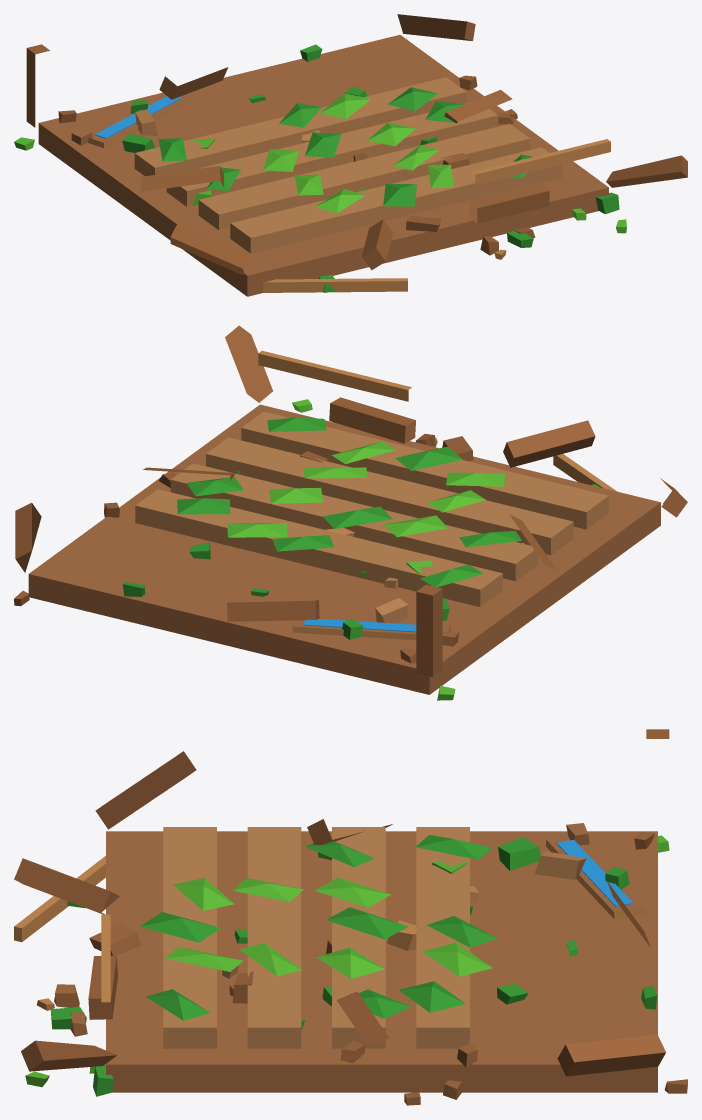
Rendered from field_t2_v2_dmg2.glb.
The picture shows the model from 3 angles, top to bottom: view 1: azimuth 30°, elevation 25°; view 2: azimuth 150°, elevation 25°; view 3: azimuth 270°, elevation 25°; orthographic projection. The views are drawn at different scales.
Parts seen in each view (by area): view 1: field_t2_v2_dmg2; view 2: field_t2_v2_dmg2; view 3: field_t2_v2_dmg2.
Boxes of the visible parts, bbox=[...] form: field_t2_v2_dmg2: bbox=[14, 14, 687, 296]; field_t2_v2_dmg2: bbox=[14, 325, 687, 700]; field_t2_v2_dmg2: bbox=[14, 729, 687, 1105].
Bounding box in the file's own units: 0.9311 × 0.18 × 0.8793.
1 material, 1 textured.
